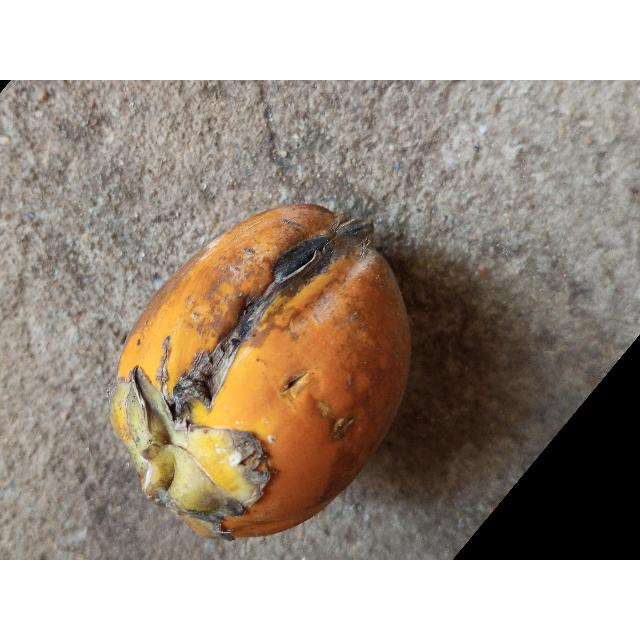damaged: (110, 204, 410, 538)
